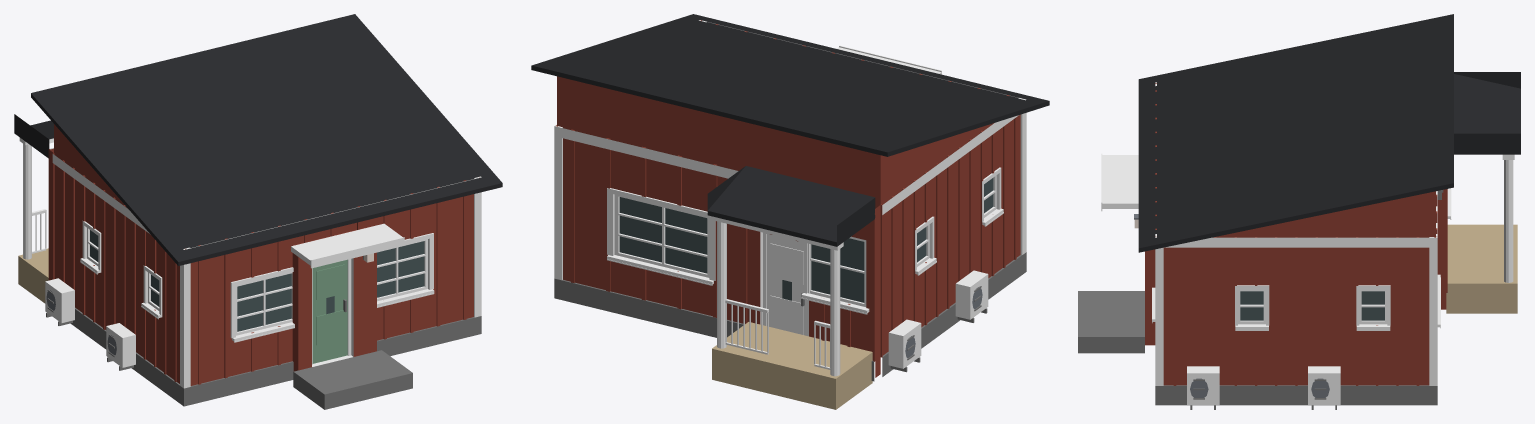
The model's file is mashup-hut_red-top-prebuilt_close.fbx.
3 renders of one model, left to right at view 1: azimuth 30°, elevation 25°; view 2: azimuth 150°, elevation 25°; view 3: azimuth 270°, elevation 25°, orthographic. The views are drawn at different scales.
Visible parts, largest first — view 1: a2015.hut_red.close; view 2: a2015.hut_red.close; view 3: a2015.hut_red.close.
Part boxes in pixels (left/top/right/bottom): a2015.hut_red.close: left=14, top=14, right=502, bottom=409; a2015.hut_red.close: left=531, top=14, right=1049, bottom=409; a2015.hut_red.close: left=1078, top=14, right=1520, bottom=409.
Bounding box in the file's own units: 6.64 × 4.22 × 7.3.
